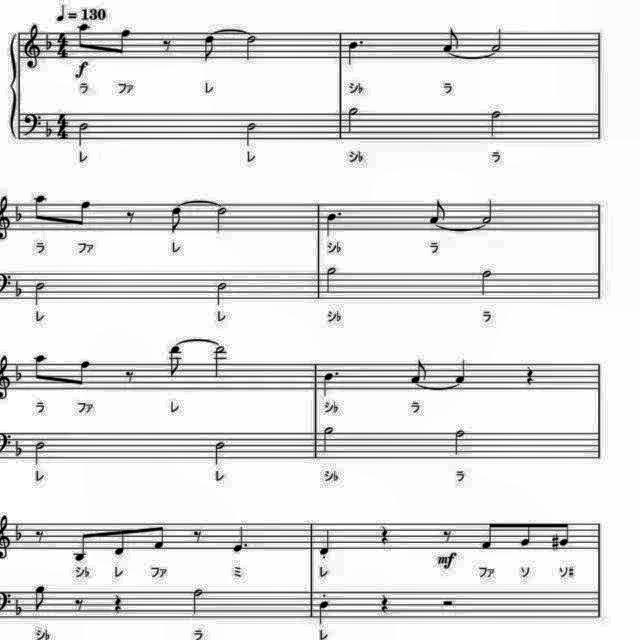Bass-clef: (21, 110, 45, 138)
Bemol: (12, 202, 28, 226), (12, 358, 26, 384), (14, 518, 26, 546), (12, 437, 24, 459), (12, 276, 24, 298), (12, 594, 24, 616), (43, 30, 55, 52), (43, 118, 55, 138)
Diez: (548, 528, 560, 554)
Eighth-note: (70, 529, 92, 567), (70, 355, 94, 389), (478, 520, 499, 556), (73, 197, 95, 231), (30, 190, 50, 226), (30, 351, 50, 387), (426, 197, 450, 227), (110, 522, 130, 558), (115, 23, 136, 57), (514, 520, 536, 552), (167, 341, 185, 379), (200, 31, 220, 65), (408, 356, 432, 384), (441, 26, 464, 54), (167, 204, 187, 236), (30, 582, 50, 614), (148, 520, 168, 552), (556, 518, 574, 550), (75, 21, 93, 51)
Eighth-rest: (70, 594, 88, 616), (159, 34, 177, 56), (123, 206, 141, 228), (120, 366, 138, 386), (188, 526, 204, 546), (32, 526, 48, 546), (440, 528, 458, 544)
Half-note: (210, 343, 230, 381), (324, 264, 344, 300), (344, 103, 364, 137), (486, 107, 506, 141), (478, 265, 498, 299), (318, 424, 338, 456), (488, 24, 508, 56), (448, 426, 468, 458), (480, 197, 500, 227), (210, 436, 230, 466), (212, 278, 232, 308), (188, 584, 206, 616), (241, 32, 259, 64), (212, 205, 230, 235), (31, 279, 49, 309), (240, 120, 258, 150), (75, 118, 92, 148), (32, 438, 48, 468)
Half-rest: (439, 594, 458, 610)
Quarter-dot: (344, 38, 368, 70), (230, 522, 252, 556), (318, 367, 342, 398), (324, 208, 348, 238)
Quarter-note: (316, 526, 336, 558), (452, 358, 472, 386), (316, 598, 332, 626)
Quarter-rest: (376, 588, 394, 616), (522, 362, 538, 390), (110, 591, 126, 615), (376, 522, 392, 546)
Treble-clef: (22, 21, 46, 71)
